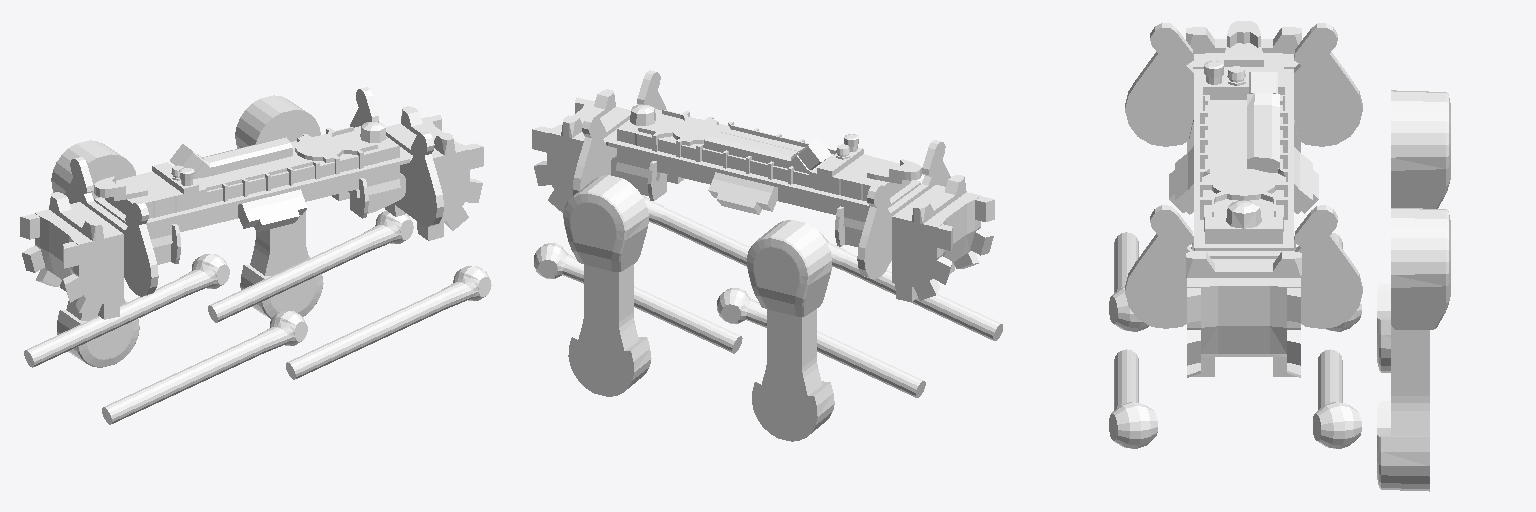
--- Facts derived from the render (not from the file) ---
The picture shows the robot from 3 angles, left to right: view 1: azimuth 30°, elevation 25°; view 2: azimuth 150°, elevation 25°; view 3: azimuth 270°, elevation 25°; orthographic projection.
Model go2_description with 42 links and 41 joints (12 revolute, 29 fixed), rooted at base, posed all joints at 0 but 4 set to mid-range because 0 is outside their limits (LF_KFE = -1.78, LH_KFE = -1.78, RF_KFE = -1.78, RH_KFE = -1.78).
Visible links, largest first — view 1: base, FL_thigh, RL_thigh, RH_FOOT, RF_FOOT, LF_FOOT, LH_FOOT, FR_hip, RR_hip; view 2: base, RL_thigh, FL_thigh, LF_FOOT, LH_FOOT, RH_FOOT, RF_FOOT, FL_hip, RL_hip; view 3: base, FL_thigh, RL_thigh, LF_FOOT, RF_FOOT, RH_FOOT.
Boxes of the visible links, x1,y1,x2,y2 form: base: (20, 87, 483, 319); FL_thigh: (235, 95, 323, 318); RL_thigh: (51, 140, 139, 367); RH_FOOT: (102, 311, 307, 424); RF_FOOT: (286, 266, 491, 379); LF_FOOT: (208, 210, 413, 322); LH_FOOT: (24, 254, 229, 367); FR_hip: (350, 173, 405, 218); RR_hip: (153, 224, 180, 264); base: (532, 70, 994, 301); RL_thigh: (746, 220, 834, 441); FL_thigh: (563, 175, 651, 396); LF_FOOT: (534, 243, 742, 353); LH_FOOT: (717, 288, 925, 397); RH_FOOT: (819, 232, 1002, 340); RF_FOOT: (642, 195, 750, 266); FL_hip: (611, 155, 666, 200); RL_hip: (835, 206, 862, 246); base: (1125, 21, 1362, 377); FL_thigh: (1377, 208, 1450, 491); RL_thigh: (1377, 90, 1450, 372); LF_FOOT: (1313, 349, 1361, 448); RF_FOOT: (1109, 349, 1157, 448); RH_FOOT: (1109, 232, 1148, 331).
Size in the robot's own frame: 0.8839 by 0.4771 by 0.4915 metres.
Meshes: 7 distinct files referenced, 11 mesh visuals loaded (4 Collada DAE); not drawn: 6 (reference not matched to a file when rendering).

The robot description file, URDF, robot "go2_description":
<?xml version="1.0" encoding="utf-8"?>
<!-- This URDF was automatically created by SolidWorks to URDF Exporter! Originally created by
Stephen Brawner ([email redacted]) 
     Commit Version: 1.6.0-4-g7f85cfe  Build Version: 1.6.7995.38578
     For more information, please see http://wiki.ros.org/sw_urdf_exporter -->
<robot
  name="go2_description">
  <link
    name="base">
    <inertial>
      <origin
        xyz="0.021112 0 -0.005366"
        rpy="0 0 0" />
      <mass
        value="6.921" />
      <inertia
        ixx="0.02448"
        ixy="0.00012166"
        ixz="0.0014849"
        iyy="0.098077"
        iyz="-3.12E-05"
        izz="0.107" />
    </inertial>
    <visual>
      <origin
        xyz="0 0 0"
        rpy="0 0 0" />
      <geometry>
        <mesh
          filename="../meshes/base.dae" />
      </geometry>
      <material
        name="">
        <color
          rgba="1 1 1 1" />
      </material>
    </visual>
    <collision>
      <origin rpy="0 0 0" xyz="0 0 0" />
      <geometry>
        <box size="0.3762 0.0935 0.114" />
      </geometry>
    </collision>
  </link>
  <link
    name="Head_upper">
    <inertial>
      <origin
        xyz="0 0 0"
        rpy="0 0 0" />
      <mass
        value="0.001" />
      <inertia
        ixx="9.6e-06"
        ixy="0"
        ixz="0"
        iyy="9.6e-06"
        iyz="0"
        izz="9.6e-06" />
    </inertial>
    <collision>
      <origin
        xyz="0 0 0"
        rpy="0 0 0" />
      <geometry>
        <cylinder radius="0.05" length="0.09" />
      </geometry>
    </collision>
  </link>
  <joint
    name="Head_upper_joint"
    type="fixed" dont_collapse="true">
    <origin
      xyz="0.285 0 0.01"
      rpy="0 0 0" />
    <parent
      link="base" />
    <child
      link="Head_upper" />
    <axis
      xyz="0 0 0" />
  </joint>
  <link
    name="Head_lower">
    <inertial>
      <origin
        xyz="0 0 0"
        rpy="0 0 0" />
      <mass
        value="0.001" />
      <inertia
        ixx="9.6e-06"
        ixy="0"
        ixz="0"
        iyy="9.6e-06"
        iyz="0"
        izz="9.6e-06" />
    </inertial>
    <collision>
      <origin
        xyz="0 0 0"
        rpy="0 0 0" />
      <geometry>
        <sphere radius="0.047" />
      </geometry>
    </collision>
  </link>
  <joint
    name="Head_lower_joint"
    type="fixed" dont_collapse="true">
    <origin
      xyz="0.008 0 -0.07"
      rpy="0 0 0" />
    <parent
      link="Head_upper" />
    <child
      link="Head_lower" />
    <axis
      xyz="0 0 0" />
  </joint>
  <link
    name="FL_hip">
    <inertial>
      <origin
        xyz="-0.0054 0.00194 -0.000105"
        rpy="0 0 0" />
      <mass
        value="0.678" />
      <inertia
        ixx="0.00048"
        ixy="-3.01E-06"
        ixz="1.11E-06"
        iyy="0.000884"
        iyz="-1.42E-06"
        izz="0.000596" />
    </inertial>
    <visual>
      <origin
        xyz="0 0 0"
        rpy="0 0 0" />
      <geometry>
        <mesh
          filename="../meshes/hip.dae" />
      </geometry>
      <material
        name="">
        <color
          rgba="1 1 1 1" />
      </material>
    </visual>
    <collision>
      <origin rpy="1.5707963267948966 0 0" xyz="0 0.08 0" />
      <geometry>
        <cylinder length="0.04" radius="0.046" />
      </geometry>
    </collision>
  </link>
  <joint
    name="LF_HAA"
    type="revolute">
    <origin
      xyz="0.1934 0.0465 0"
      rpy="0 0 0" />
    <parent
      link="base" />
    <child
      link="FL_hip" />
    <axis
      xyz="1 0 0" />
    <limit
      lower="-1.0472"
      upper="1.0472"
      effort="23.7"
      velocity="30.1" />
  </joint>
  <link name="FL_hip_rotor">
    <inertial>
      <origin rpy="0 0 0" xyz="0.0 0.0 0.0"/>
      <mass value="0.089"/>
      <inertia ixx="0.000111842" ixy="0.0" ixz="0.0" iyy="0.000059647" iyz="0.0" izz="0.000059647"/>
    </inertial>
  </link>
  <joint name="FL_hip_rotor_joint" type="fixed">
    <origin rpy="0 0 0" xyz="0.11215 0.04675 0"/>
    <parent link="base"/>
    <child link="FL_hip_rotor"/>
  </joint>
  <link
    name="FL_thigh">
    <inertial>
      <origin
        xyz="-0.00374 -0.0223 -0.0327"
        rpy="0 0 0" />
      <mass
        value="1.152" />
      <inertia
        ixx="0.00584"
        ixy="8.72E-05"
        ixz="-0.000289"
        iyy="0.0058"
        iyz="0.000808"
        izz="0.00103" />
    </inertial>
    <visual>
      <origin
        xyz="0 0 0"
        rpy="0 0 0" />
      <geometry>
        <mesh
          filename="../meshes/thigh.dae" />
      </geometry>
      <material
        name="">
        <color
          rgba="1 1 1 1" />
      </material>
    </visual>
    <collision>
      <origin rpy="0 1.5707963267948966 0" xyz="0 0 -0.1065" />
      <geometry>
        <box size="0.213 0.0245 0.034" />
      </geometry>
    </collision>
  </link>
  <joint
    name="LF_HFE"
    type="revolute">
    <origin
      xyz="0 0.0955 0"
      rpy="0 0 0" />
    <parent
      link="FL_hip" />
    <child
      link="FL_thigh" />
    <axis
      xyz="0 1 0" />
    <limit
      lower="-1.5708"
      upper="3.4907"
      effort="23.7"
      velocity="30.1" />
  </joint>
  <link name="FL_thigh_rotor">
    <inertial>
      <origin rpy="0 0 0" xyz="0.0 0.0 0.0"/>
      <mass value="0.089"/>
      <inertia ixx="0.000059647" ixy="0.0" ixz="0.0" iyy="0.000111842" iyz="0.0" izz="0.000059647"/>
    </inertial>
  </link>
  <joint name="FL_thigh_rotor_joint" type="fixed">
    <origin rpy="0 0 0" xyz="0 -0.00015 0"/>
    <parent link="FL_hip"/>
    <child link="FL_thigh_rotor"/>
  </joint>
  <link
    name="FL_calf">
    <inertial>
      <origin
        xyz="0.00548 -0.000975 -0.115"
        rpy="0 0 0" />
      <mass
        value="0.154" />
      <inertia
        ixx="0.00108"
        ixy="3.4E-07"
        ixz="1.72E-05"
        iyy="0.0011"
        iyz="8.28E-06"
        izz="3.29E-05" />
    </inertial>
    <visual>
      <origin
        xyz="0 0 0"
        rpy="0 0 0" />
      <geometry>
        <mesh
          filename="../meshes/calf.dae" />
      </geometry>
      <material
        name="">
        <color
          rgba="1 1 1 1" />
      </material>
    </visual>
    <collision>
      <origin rpy="0 -0.21 0" xyz="0.008 0 -0.06" />
      <geometry>
        <cylinder length="0.12" radius="0.012" />
      </geometry>
    </collision>
  </link>
  <joint
    name="LF_KFE"
    type="revolute">
    <origin
      xyz="0 0 -0.213"
      rpy="0 0 0" />
    <parent
      link="FL_thigh" />
    <child
      link="FL_calf" />
    <axis
      xyz="0 1 0" />
    <limit
      lower="-2.7227"
      upper="-0.83776"
      effort="45.43"
      velocity="15.70" />
  </joint>
  <link
    name="FL_calflower">
    <collision>
      <origin rpy="0 0 0" xyz="0 0 0" />
      <geometry>
        <cylinder length="0.065" radius="0.011" />
      </geometry>
    </collision>
  </link>
  <joint
    name="FL_calflower_joint"
    type="fixed">
    <origin
      xyz="0.020 0 -0.148"
      rpy="0 0.05 0" />
    <parent
      link="FL_calf" />
    <child
      link="FL_calflower" />
    <axis
      xyz="0 0 0" />
  </joint>
  <link
    name="FL_calflower1">
    <collision>
      <origin rpy="0 0 0" xyz="0 0 0" />
      <geometry>
        <cylinder length="0.03" radius="0.0155" />
      </geometry>
    </collision>
  </link>
  <joint
    name="FL_calflower1_joint"
    type="fixed">
    <origin
      xyz="-0.01 0 -0.04"
      rpy="0 0.48 0" />
    <parent
      link="FL_calflower" />
    <child
      link="FL_calflower1" />
    <axis
      xyz="0 0 0" />
  </joint>
  <link name="FL_calf_rotor">
    <inertial>
      <origin rpy="0 0 0" xyz="0.0 0.0 0.0"/>
      <mass value="0.089"/>
      <inertia ixx="0.000059647" ixy="0.0" ixz="0.0" iyy="0.000111842" iyz="0.0" izz="0.000059647"/>
    </inertial>
  </link>
  <joint name="FL_calf_rotor_joint" type="fixed">
    <origin rpy="0 0 0" xyz="0 -0.03235 0"/>
    <parent link="FL_thigh"/>
    <child link="FL_calf_rotor"/>
  </joint>
  <link
    name="LF_FOOT">
    <inertial>
      <origin
        xyz="0 0 0"
        rpy="0 0 0" />
      <mass
        value="0.04" />
      <inertia
        ixx="9.6e-06"
        ixy="0"
        ixz="0"
        iyy="9.6e-06"
        iyz="0"
        izz="9.6e-06" />
    </inertial>
    <visual>
      <origin
        xyz="0 0 0"
        rpy="0 0 0" />
      <geometry>
        <mesh
          filename="../meshes/foot.dae" />
      </geometry>
      <material
        name="">
        <color
          rgba="1 1 1 1" />
      </material>
    </visual>
    <collision>
      <origin rpy="0 0 0" xyz="-0.002 0 0" />
      <geometry>
        <sphere radius="0.022" />
      </geometry>
    </collision>
  </link>
  <joint
    name="LF_FOOT_joint"
    type="fixed" dont_collapse="true">
    <origin
      xyz="0 0 -0.213"
      rpy="0 0 0" />
    <parent
      link="FL_calf" />
    <child
      link="LF_FOOT" />
    <axis
      xyz="0 0 0" />
  </joint>
  <link
    name="RL_hip">
    <inertial>
      <origin
        xyz="0.0054 0.00194 -0.000105"
        rpy="0 0 0" />
      <mass
        value="0.678" />
      <inertia
        ixx="0.00048"
        ixy="3.01E-06"
        ixz="-1.11E-06"
        iyy="0.000884"
        iyz="-1.42E-06"
        izz="0.000596" />
    </inertial>
    <visual>
      <origin
        xyz="0 0 0"
        rpy="0 3.1415 0" />
      <geometry>
        <mesh
          filename="../meshes/hip.dae" />
      </geometry>
      <material
        name="">
        <color
          rgba="1 1 1 1" />
      </material>
    </visual>
    <collision>
      <origin rpy="1.5707963267948966 0 0" xyz="0 0.08 0" />
      <geometry>
        <cylinder length="0.04" radius="0.046" />
      </geometry>
    </collision>
  </link>
  <joint
    name="LH_HAA"
    type="revolute">
    <origin
      xyz="-0.1934 0.0465 0"
      rpy="0 0 0" />
    <parent
      link="base" />
    <child
      link="RL_hip" />
    <axis
      xyz="1 0 0" />
    <limit
      lower="-1.0472"
      upper="1.0472"
      effort="23.7"
      velocity="30.1" />
  </joint>
  <link name="RL_hip_rotor">
    <inertial>
      <origin rpy="0 0 0" xyz="0.0 0.0 0.0"/>
      <mass value="0.089"/>
      <inertia ixx="0.000111842" ixy="0.0" ixz="0.0" iyy="0.000059647" iyz="0.0" izz="0.000059647"/>
    </inertial>
  </link>
  <joint name="RL_hip_rotor_joint" type="fixed">
    <origin rpy="0 0 0" xyz="-0.11215 0.04675 0"/>
    <parent link="base"/>
    <child link="RL_hip_rotor"/>
  </joint>
  <link
    name="RL_thigh">
    <inertial>
      <origin
        xyz="-0.00374 -0.0223 -0.0327"
        rpy="0 0 0" />
      <mass
        value="1.152" />
      <inertia
        ixx="0.00584"
        ixy="8.72E-05"
        ixz="-0.000289"
        iyy="0.0058"
        iyz="0.000808"
        izz="0.00103" />
    </inertial>
    <visual>
      <origin
        xyz="0 0 0"
        rpy="0 0 0" />
      <geometry>
        <mesh
          filename="../meshes/thigh.dae" />
      </geometry>
      <material
        name="">
        <color
          rgba="1 1 1 1" />
      </material>
    </visual>
    <collision>
      <origin rpy="0 1.5707963267948966 0" xyz="0 0 -0.1065" />
      <geometry>
        <box size="0.213 0.0245 0.034" />
      </geometry>
    </collision>
  </link>
  <joint
    name="LH_HFE"
    type="revolute">
    <origin
      xyz="0 0.0955 0"
      rpy="0 0 0" />
    <parent
      link="RL_hip" />
    <child
      link="RL_thigh" />
    <axis
      xyz="0 1 0" />
    <limit
      lower="-0.5236"
      upper="4.5379"
      effort="23.7"
      velocity="30.1" />
  </joint>
  <link name="RL_thigh_rotor">
    <inertial>
      <origin rpy="0 0 0" xyz="0.0 0.0 0.0"/>
      <mass value="0.089"/>
      <inertia ixx="0.000059647" ixy="0.0" ixz="0.0" iyy="0.000111842" iyz="0.0" izz="0.000059647"/>
    </inertial>
  </link>
  <joint name="RL_thigh_rotor_joint" type="fixed">
    <origin rpy="0 0 0" xyz="0 -0.00015 0"/>
    <parent link="RL_hip"/>
    <child link="RL_thigh_rotor"/>
  </joint>
  <link
    name="RL_calf">
    <inertial>
      <origin
        xyz="0.00548 -0.000975 -0.115"
        rpy="0 0 0" />
      <mass
        value="0.154" />
      <inertia
        ixx="0.00108"
        ixy="3.4E-07"
        ixz="1.72E-05"
        iyy="0.0011"
        iyz="8.28E-06"
        izz="3.29E-05" />
    </inertial>
    <visual>
      <origin
        xyz="0 0 0"
        rpy="0 0 0" />
      <geometry>
        <mesh
          filename="../meshes/calf.dae" />
      </geometry>
      <material
        name="">
        <color
          rgba="1 1 1 1" />
      </material>
    </visual>
    <collision>
      <origin rpy="0 -0.2 0" xyz="0.01 0 -0.06" />
      <geometry>
        <cylinder length="0.12" radius="0.013" />
      </geometry>
    </collision>
  </link>
  <joint
    name="LH_KFE"
    type="revolute">
    <origin
      xyz="0 0 -0.213"
      rpy="0 0 0" />
    <parent
      link="RL_thigh" />
    <child
      link="RL_calf" />
    <axis
      xyz="0 1 0" />
    <limit
      lower="-2.7227"
      upper="-0.83776"
      effort="45.43"
      velocity="15.70" />
  </joint>
  <link
    name="RL_calflower">
    <collision>
      <origin rpy="0 0 0" xyz="0 0 0" />
      <geometry>
        <cylinder length="0.065" radius="0.011" />
      </geometry>
    </collision>
  </link>
  <joint
    name="RL_calflower_joint"
    type="fixed">
    <origin
      xyz="0.020 0 -0.148"
      rpy="0 0.05 0" />
    <parent
      link="RL_calf" />
    <child
      link="RL_calflower" />
    <axis
      xyz="0 0 0" />
  </joint>
  <link
    name="RL_calflower1">
    <collision>
      <origin rpy="0 0 0" xyz="0 0 0" />
      <geometry>
        <cylinder length="0.03" radius="0.0155" />
      </geometry>
    </collision>
  </link>
  <joint
    name="RL_calflower1_joint"
    type="fixed">
    <origin
      xyz="-0.01 0 -0.04"
      rpy="0 0.48 0" />
    <parent
      link="RL_calflower" />
    <child
      link="RL_calflower1" />
    <axis
      xyz="0 0 0" />
  </joint>
  <link name="RL_calf_rotor">
    <inertial>
      <origin rpy="0 0 0" xyz="0.0 0.0 0.0"/>
      <mass value="0.089"/>
      <inertia ixx="0.000059647" ixy="0.0" ixz="0.0" iyy="0.000111842" iyz="0.0" izz="0.000059647"/>
    </inertial>
  </link>
  <joint name="RL_calf_rotor_joint" type="fixed">
    <origin rpy="0 0 0" xyz="0 -0.03235 0"/>
    <parent link="RL_thigh"/>
    <child link="RL_calf_rotor"/>
  </joint>
  <link
    name="LH_FOOT">
    <inertial>
      <origin
        xyz="0 0 0"
        rpy="0 0 0" />
      <mass
        value="0.04" />
      <inertia
        ixx="9.6e-06"
        ixy="0"
        ixz="0"
        iyy="9.6e-06"
        iyz="0"
        izz="9.6e-06" />
    </inertial>
    <visual>
      <origin
        xyz="0 0 0"
        rpy="0 0 0" />
      <geometry>
        <mesh
          filename="../meshes/foot.dae" />
      </geometry>
      <material
        name="">
        <color
          rgba="1 1 1 1" />
      </material>
    </visual>
    <collision>
      <origin rpy="0 0 0" xyz="-0.002 0 0" />
      <geometry>
        <sphere radius="0.022" />
      </geometry>
    </collision>
  </link>
  <joint
    name="LH_FOOT_joint"
    type="fixed" dont_collapse="true">
    <origin
      xyz="0 0 -0.213"
      rpy="0 0 0" />
    <parent
      link="RL_calf" />
    <child
      link="LH_FOOT" />
    <axis
      xyz="0 0 0" />
  </joint>
  <link
    name="FR_hip">
    <inertial>
      <origin
        xyz="-0.0054 -0.00194 -0.000105"
        rpy="0 0 0" />
      <mass
        value="0.678" />
      <inertia
        ixx="0.00048"
        ixy="3.01E-06"
        ixz="1.11E-06"
        iyy="0.000884"
        iyz="1.42E-06"
        izz="0.000596" />
    </inertial>
    <visual>
      <origin
        xyz="0 0 0"
        rpy="3.1415 0 0" />
      <geometry>
        <mesh
          filename="../meshes/hip.dae" />
      </geometry>
      <material
        name="">
        <color
          rgba="1 1 1 1" />
      </material>
    </visual>
    <collision>
      <origin rpy="1.5707963267948966 0 0" xyz="0 -0.08 0" />
      <geometry>
        <cylinder length="0.04" radius="0.046" />
      </geometry>
    </collision>
  </link>
  <joint
    name="RF_HAA"
    type="revolute">
    <origin
      xyz="0.1934 -0.0465 0"
      rpy="0 0 0" />
    <parent
      link="base" />
    <child
      link="FR_hip" />
    <axis
      xyz="1 0 0" />
    <limit
      lower="-1.0472"
      upper="1.0472"
      effort="23.7"
      velocity="30.1" />
  </joint>
  <link name="FR_hip_rotor">
    <inertial>
      <origin rpy="0 0 0" xyz="0.0 0.0 0.0"/>
      <mass value="0.089"/>
      <inertia ixx="0.000111842" ixy="0.0" ixz="0.0" iyy="0.000059647" iyz="0.0" izz="0.000059647"/>
    </inertial>
  </link>
  <joint name="FR_hip_rotor_joint" type="fixed">
    <origin rpy="0 0 0" xyz="0.11215 -0.04675 0"/>
    <parent link="base"/>
    <child link="FR_hip_rotor"/>
  </joint>
  <link
    name="FR_thigh">
    <inertial>
      <origin
        xyz="-0.00374 0.0223 -0.0327"
        rpy="0 0 0" />
      <mass
        value="1.152" />
      <inertia
        ixx="0.00584"
        ixy="-8.72E-05"
        ixz="-0.000289"
        iyy="0.0058"
        iyz="-0.000808"
        izz="0.00103" />
    </inertial>
    <visual>
      <origin
        xyz="0 0 0"
        rpy="0 0 0" />
      <geometry>
        <mesh
          filename="../meshes/thigh_mirror.dae" />
      </geometry>
      <material
        name="">
        <color
          rgba="1 1 1 1" />
      </material>
    </visual>
    <collision>
      <origin rpy="0 1.5707963267948966 0" xyz="0 0 -0.1065" />
      <geometry>
        <box size="0.213 0.0245 0.034" />
      </geometry>
    </collision>
  </link>
  <joint
    name="RF_HFE"
    type="revolute">
    <origin
      xyz="0 -0.0955 0"
      rpy="0 0 0" />
    <parent
      link="FR_hip" />
    <child
      link="FR_thigh" />
    <axis
      xyz="0 1 0" />
    <limit
      lower="-1.5708"
      upper="3.4907"
      effort="23.7"
      velocity="30.1" />
  </joint>
  <link name="FR_thigh_rotor">
    <inertial>
      <origin rpy="0 0 0" xyz="0.0 0.0 0.0"/>
      <mass value="0.089"/>
      <inertia ixx="0.000059647" ixy="0.0" ixz="0.0" iyy="0.000111842" iyz="0.0" izz="0.000059647"/>
    </inertial>
  </link>
  <joint name="FR_thigh_rotor_joint" type="fixed">
    <origin rpy="0 0 0" xyz="0 0.00015 0"/>
    <parent link="FR_hip"/>
    <child link="FR_thigh_rotor"/>
  </joint>
  <link
    name="FR_calf">
    <inertial>
      <origin
        xyz="0.00548 0.000975 -0.115"
        rpy="0 0 0" />
      <mass
        value="0.154" />
      <inertia
        ixx="0.00108"
        ixy="-3.4E-07"
        ixz="1.72E-05"
        iyy="0.0011"
        iyz="-8.28E-06"
        izz="3.29E-05" />
    </inertial>
    <visual>
      <origin
        xyz="0 0 0"
        rpy="0 0 0" />
      <geometry>
        <mesh
          filename="../meshes/calf_mirror.dae" />
      </geometry>
      <material
        name="">
        <color
          rgba="1 1 1 1" />
      </material>
    </visual>
    <collision>
      <origin rpy="0 -0.2 0" xyz="0.01 0 -0.06" />
      <geometry>
        <cylinder length="0.12" radius="0.013" />
      </geometry>
    </collision>
  </link>
  <joint
    name="RF_KFE"
    type="revolute">
    <origin
      xyz="0 0 -0.213"
      rpy="0 0 0" />
    <parent
      link="FR_thigh" />
    <child
      link="FR_calf" />
    <axis
      xyz="0 1 0" />
    <limit
      lower="-2.7227"
      upper="-0.83776"
      effort="45.43"
      velocity="15.70" />
  </joint>
  <link
    name="FR_calflower">
    <collision>
      <origin rpy="0 0 0" xyz="0 0 0" />
      <geometry>
        <cylinder length="0.065" radius="0.011" />
      </geometry>
    </collision>
  </link>
  <joint
    name="FR_calflower_joint"
    type="fixed">
    <origin
      xyz="0.020 0 -0.148"
      rpy="0 0.05 0" />
    <parent
      link="FR_calf" />
    <child
      link="FR_calflower" />
    <axis
      xyz="0 0 0" />
  </joint>
  <link
    name="FR_calflower1">
    <collision>
      <origin rpy="0 0 0" xyz="0 0 0" />
      <geometry>
        <cylinder length="0.03" radius="0.0155" />
      </geometry>
    </collision>
  </link>
  <joint
    name="FR_calflower1_joint"
    type="fixed">
    <origin
      xyz="-0.01 0 -0.04"
      rpy="0 0.48 0" />
    <parent
      link="FR_calflower" />
    <child
      link="FR_calflower1" />
    <axis
      xyz="0 0 0" />
  </joint>
  <link name="FR_calf_rotor">
    <inertial>
      <origin rpy="0 0 0" xyz="0.0 0.0 0.0"/>
      <mass value="0.089"/>
      <inertia ixx="0.000059647" ixy="0.0" ixz="0.0" iyy="0.000111842" iyz="0.0" izz="0.000059647"/>
    </inertial>
  </link>
  <joint name="FR_calf_rotor_joint" type="fixed">
    <origin rpy="0 0 0" xyz="0 0.03235 0"/>
    <parent link="FR_thigh"/>
    <child link="FR_calf_rotor"/>
  </joint>
  <link
    name="RF_FOOT">
    <inertial>
      <origin
        xyz="0 0 0"
        rpy="0 0 0" />
      <mass
        value="0.04" />
      <inertia
        ixx="9.6e-06"
        ixy="0"
        ixz="0"
        iyy="9.6e-06"
        iyz="0"
        izz="9.6e-06" />
    </inertial>
    <visual>
      <origin
        xyz="0 0 0"
        rpy="0 0 0" />
      <geometry>
        <mesh
          filename="../meshes/foot.dae" />
      </geometry>
      <material
        name="">
        <color
          rgba="1 1 1 1" />
      </material>
    </visual>
    <collision>
      <origin rpy="0 0 0" xyz="-0.002 0 0" />
      <geometry>
        <sphere radius="0.022" />
      </geometry>
    </collision>
  </link>
  <joint
    name="RF_FOOT_joint"
    type="fixed" dont_collapse="true">
    <origin
      xyz="0 0 -0.213"
      rpy="0 0 0" />
    <parent
      link="FR_calf" />
    <child
      link="RF_FOOT" />
    <axis
      xyz="0 0 0" />
  </joint>
  <link
    name="RR_hip">
    <inertial>
      <origin
        xyz="0.0054 -0.00194 -0.000105"
        rpy="0 0 0" />
      <mass
        value="0.678" />
      <inertia
        ixx="0.00048"
        ixy="-3.01E-06"
        ixz="-1.11E-06"
        iyy="0.000884"
        iyz="1.42E-06"
        izz="0.000596" />
    </inertial>
    <visual>
      <origin
        xyz="0 0 0"
        rpy="3.1415 3.1415 0" />
      <geometry>
        <mesh
          filename="../meshes/hip.dae" />
      </geometry>
      <material
        name="">
        <color
          rgba="1 1 1 1" />
      </material>
    </visual>
    <collision>
      <origin rpy="1.5707963267948966 0 0" xyz="0 -0.08 0" />
      <geometry>
        <cylinder length="0.04" radius="0.046" />
      </geometry>
    </collision>
  </link>
  <joint
    name="RH_HAA"
    type="revolute">
    <origin
      xyz="-0.1934 -0.0465 0"
      rpy="0 0 0" />
    <parent
      link="base" />
    <child
      link="RR_hip" />
    <axis
      xyz="1 0 0" />
    <limit
      lower="-1.0472"
      upper="1.0472"
      effort="23.7"
      velocity="30.1" />
  </joint>
  <link name="RR_hip_rotor">
    <inertial>
      <origin rpy="0 0 0" xyz="0.0 0.0 0.0"/>
      <mass value="0.089"/>
      <inertia ixx="0.000111842" ixy="0.0" ixz="0.0" iyy="0.000059647" iyz="0.0" izz="0.000059647"/>
    </inertial>
  </link>
  <joint name="RR_hip_rotor_joint" type="fixed">
    <origin rpy="0 0 0" xyz="-0.11215 -0.04675 0"/>
    <parent link="base"/>
    <child link="RR_hip_rotor"/>
  </joint>
  <link
    name="RR_thigh">
    <inertial>
      <origin
        xyz="-0.00374 0.0223 -0.0327"
        rpy="0 0 0" />
      <mass
        value="1.152" />
      <inertia
        ixx="0.00584"
        ixy="-8.72E-05"
        ixz="-0.000289"
        iyy="0.0058"
        iyz="-0.000808"
        izz="0.00103" />
    </inertial>
    <visual>
      <origin
        xyz="0 0 0"
        rpy="0 0 0" />
      <geometry>
        <mesh
          filename="../meshes/thigh_mirror.dae" />
      </geometry>
      <material
        name="">
        <color
          rgba="1 1 1 1" />
      </material>
    </visual>
    <collision>
      <origin rpy="0 1.5707963267948966 0" xyz="0 0 -0.1065" />
      <geometry>
        <box size="0.213 0.0245 0.034" />
      </geometry>
    </collision>
  </link>
  <joint
    name="RH_HFE"
    type="revolute">
    <origin
      xyz="0 -0.0955 0"
      rpy="0 0 0" />
    <parent
      link="RR_hip" />
    <child
      link="RR_thigh" />
    <axis
      xyz="0 1 0" />
    <limit
      lower="-0.5236"
      upper="4.5379"
      effort="23.7"
      velocity="30.1" />
  </joint>
  <link name="RR_thigh_rotor">
    <inertial>
      <origin rpy="0 0 0" xyz="0.0 0.0 0.0"/>
      <mass value="0.089"/>
      <inertia ixx="0.000059647" ixy="0.0" ixz="0.0" iyy="0.000111842" iyz="0.0" izz="0.000059647"/>
    </inertial>
  </link>
  <joint name="RR_thigh_rotor_joint" type="fixed">
    <origin rpy="0 0 0" xyz="0 0.00015 0"/>
    <parent link="RR_hip"/>
    <child link="RR_thigh_rotor"/>
  </joint>
  <link
    name="RR_calf">
    <inertial>
      <origin
        xyz="0.00548 0.000975 -0.115"
        rpy="0 0 0" />
      <mass
        value="0.154" />
      <inertia
        ixx="0.00108"
        ixy="-3.4E-07"
        ixz="1.72E-05"
        iyy="0.0011"
        iyz="-8.28E-06"
        izz="3.29E-05" />
    </inertial>
    <visual>
      <origin
        xyz="0 0 0"
        rpy="0 0 0" />
      <geometry>
        <mesh
          filename="../meshes/calf_mirror.dae" />
      </geometry>
      <material
        name="">
        <color
          rgba="1 1 1 1" />
      </material>
    </visual>
    <collision>
      <origin rpy="0 -0.2 0" xyz="0.01 0 -0.06" />
      <geometry>
        <cylinder length="0.12" radius="0.013" />
      </geometry>
    </collision>
  </link>
  <joint
    name="RH_KFE"
    type="revolute">
    <origin
      xyz="0 0 -0.213"
      rpy="0 0 0" />
    <parent
      link="RR_thigh" />
    <child
      link="RR_calf" />
    <axis
      xyz="0 1 0" />
    <limit
      lower="-2.7227"
      upper="-0.83776"
      effort="45.43"
      velocity="15.70" />
  </joint>
  <link
    name="RR_calflower">
    <collision>
      <origin rpy="0 0 0" xyz="0 0 0" />
      <geometry>
        <cylinder length="0.065" radius="0.011" />
      </geometry>
    </collision>
  </link>
  <joint
    name="RR_calflower_joint"
    type="fixed">
    <origin
      xyz="0.020 0 -0.148"
      rpy="0 0.05 0" />
    <parent
      link="RR_calf" />
    <child
      link="RR_calflower" />
    <axis
      xyz="0 0 0" />
  </joint>
  <link
    name="RR_calflower1">
    <collision>
      <origin rpy="0 0 0" xyz="0 0 0" />
      <geometry>
        <cylinder length="0.03" radius="0.0155" />
      </geometry>
    </collision>
  </link>
  <joint
    name="RR_calflower1_joint"
    type="fixed">
    <origin
      xyz="-0.01 0 -0.04"
      rpy="0 0.48 0" />
    <parent
      link="RR_calflower" />
    <child
      link="RR_calflower1" />
    <axis
      xyz="0 0 0" />
  </joint>
  <link name="RR_calf_rotor">
    <inertial>
      <origin rpy="0 0 0" xyz="0.0 0.0 0.0"/>
      <mass value="0.089"/>
      <inertia ixx="0.000059647" ixy="0.0" ixz="0.0" iyy="0.000111842" iyz="0.0" izz="0.000059647"/>
    </inertial>
  </link>
  <joint name="RR_calf_rotor_joint" type="fixed">
    <origin rpy="0 0 0" xyz="0 0.03235 0"/>
    <parent link="RR_thigh"/>
    <child link="RR_calf_rotor"/>
  </joint>
  <link
    name="RH_FOOT">
    <inertial>
      <origin
        xyz="0 0 0"
        rpy="0 0 0" />
      <mass
        value="0.04" />
      <inertia
        ixx="9.6e-06"
        ixy="0"
        ixz="0"
        iyy="9.6e-06"
        iyz="0"
        izz="9.6e-06" />
    </inertial>
    <visual>
      <origin
        xyz="0 0 0"
        rpy="0 0 0" />
      <geometry>
        <mesh
          filename="../meshes/foot.dae" />
      </geometry>
      <material
        name="">
        <color
          rgba="1 1 1 1" />
      </material>
    </visual>
    <collision>
      <origin rpy="0 0 0" xyz="-0.002 0 0" />
      <geometry>
        <sphere radius="0.022" />
      </geometry>
    </collision>
  </link>
  <joint
    name="RH_FOOT_joint"
    type="fixed" dont_collapse="true">
    <origin
      xyz="0 0 -0.213"
      rpy="0 0 0" />
    <parent
      link="RR_calf" />
    <child
      link="RH_FOOT" />
    <axis
      xyz="0 0 0" />
  </joint>
  <link
    name="imu">
    <inertial>
      <origin
        xyz="0 0 0"
        rpy="0 0 0" />
      <mass
        value="0" />
      <inertia
        ixx="0"
        ixy="0"
        ixz="0"
        iyy="0"
        iyz="0"
        izz="0" />
    </inertial>
  </link>
  <joint
    name="imu_joint"
    type="fixed">
    <origin
      xyz="-0.02557 0 0.04232"
      rpy="0 0 0" />
    <parent
      link="base" />
    <child
      link="imu" />
    <axis
      xyz="0 0 0" />
  </joint>
  <link
    name="radar">
    <inertial>
      <origin
        xyz="0 0 0"
        rpy="0 0 0" />
      <mass
        value="0" />
      <inertia
        ixx="0"
        ixy="0"
        ixz="0"
        iyy="0"
        iyz="0"
        izz="0" />
    </inertial>
  </link>
  <joint
    name="radar_joint"
    type="fixed">
    <origin
      xyz="0.28945 0 -0.046825"
      rpy="0 2.8782 0" />
    <parent
      link="base" />
    <child
      link="radar" />
    <axis
      xyz="0 0 0" />
  </joint>
  <joint 
    name="front_camera_joint" 
    type="fixed">
    <origin 
      rpy="0 0 0" 
      xyz="0.32715 -0.00003 0.04297"/>
      <parent 
        link="base"/>
      <child 
      link="front_camera"/>
  </joint>
  <link 
    name="front_camera">
  </link>
</robot>
